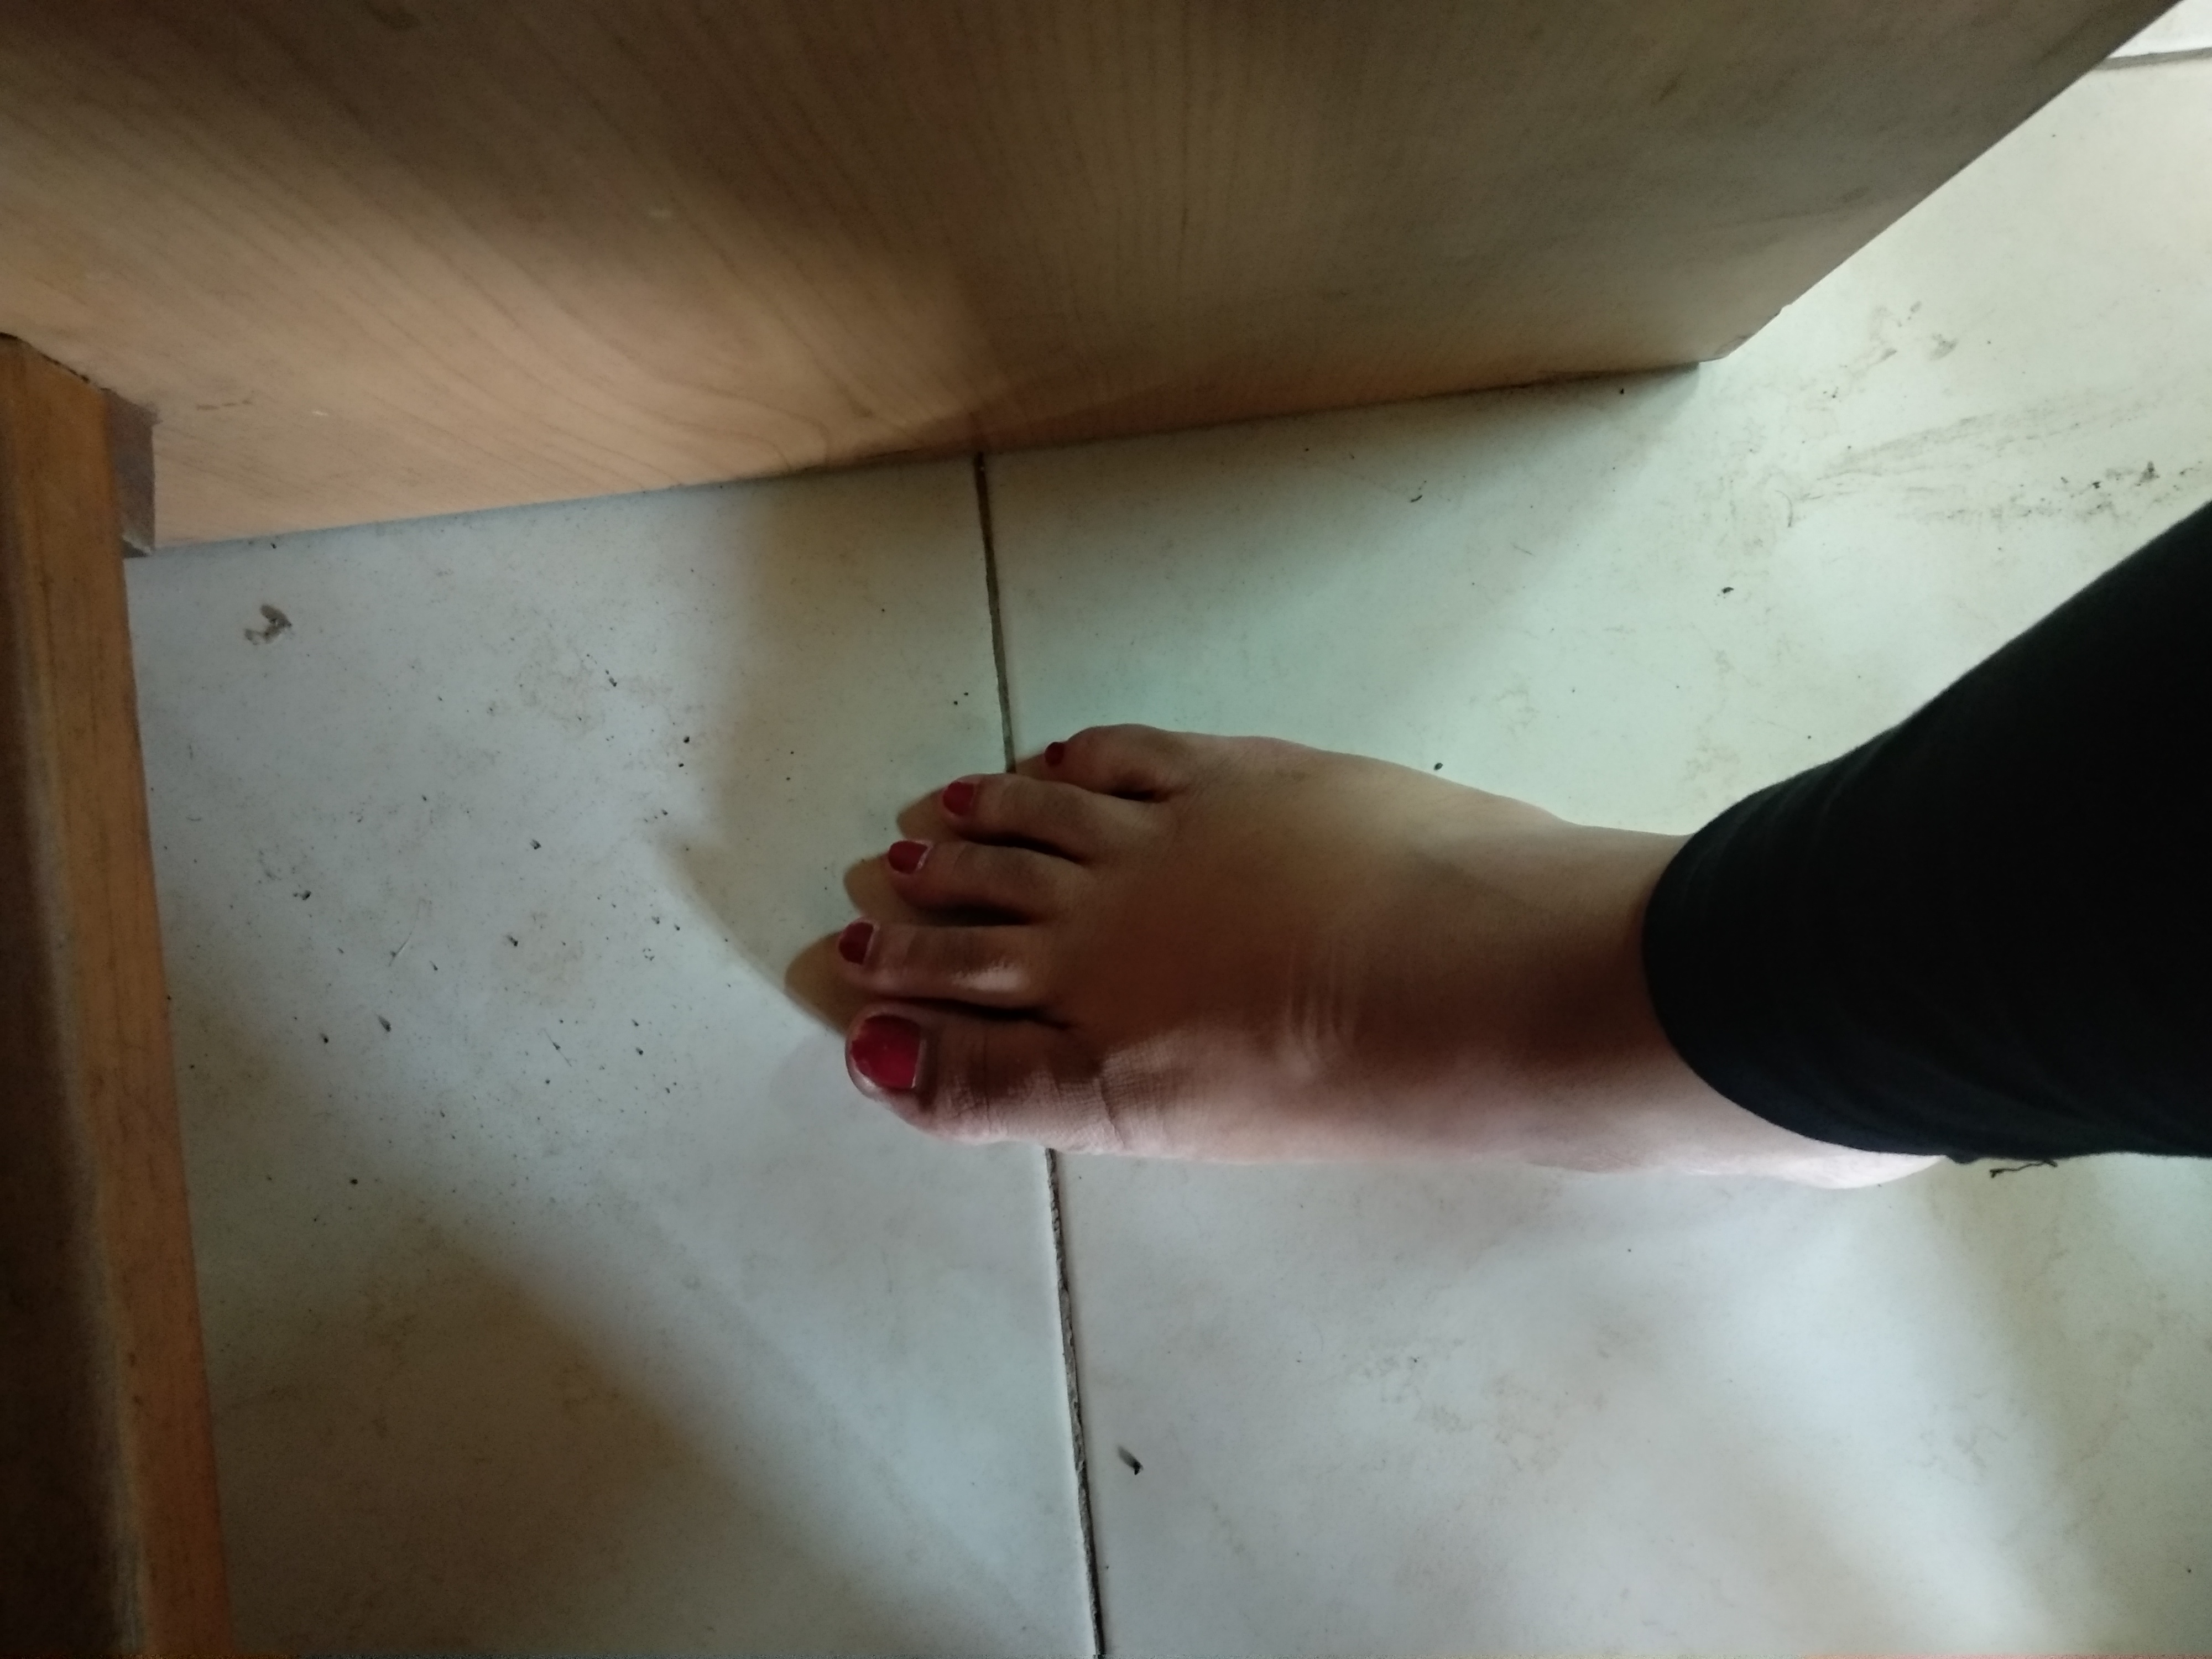feet: (711, 680, 1986, 1199)
